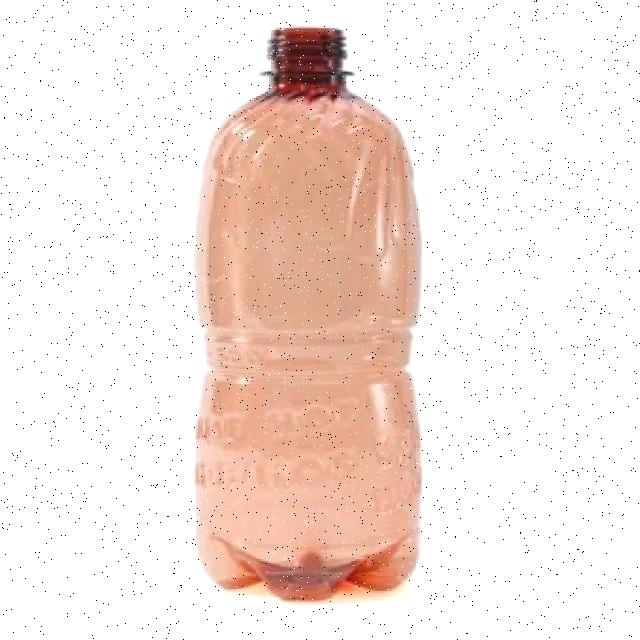bottle: (158, 9, 446, 606)
